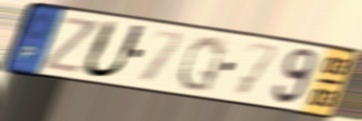7: (234, 39, 281, 100), (137, 28, 186, 85)
9: (271, 46, 318, 106)
Q: (174, 34, 228, 95)
U: (78, 18, 150, 80)
Z: (41, 14, 101, 77)
